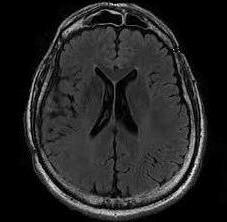Normal_Brain: (23, 11, 227, 222)
